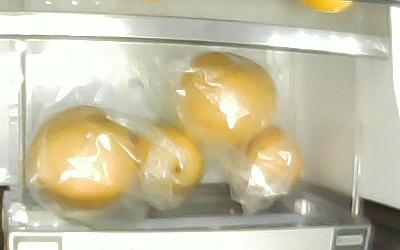pear_vinyl: (32, 105, 136, 207), (180, 50, 276, 143), (134, 126, 204, 195), (247, 125, 301, 187)
